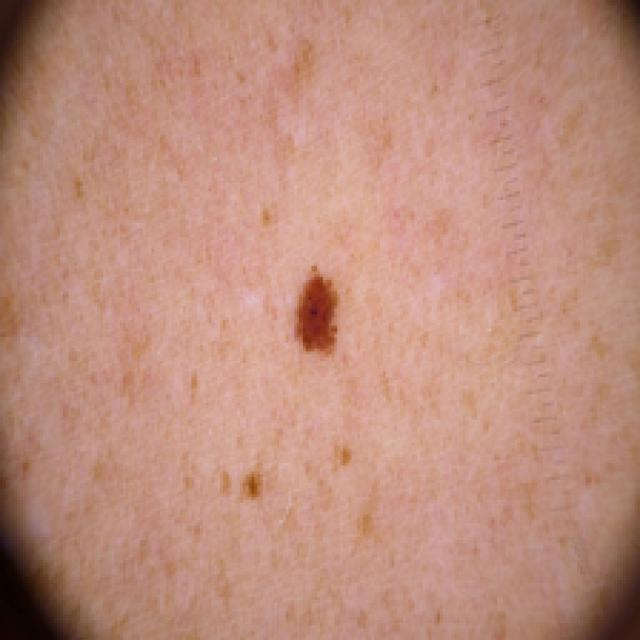non-cancer: (219, 192, 388, 510)
